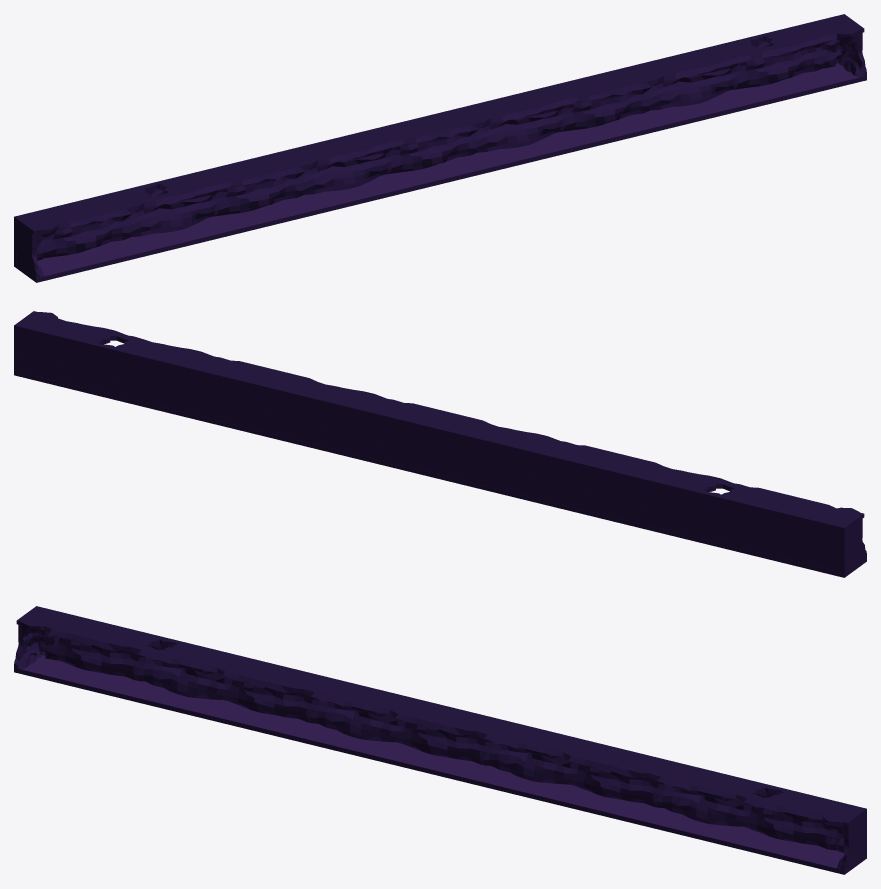
File: cave_grp.fbx
3 renders of one model, top to bottom at view 1: azimuth 30°, elevation 25°; view 2: azimuth 150°, elevation 25°; view 3: azimuth 330°, elevation 25°, orthographic.
Visible parts, largest first — view 1: cave_ground_long_001_msh, cave_wall_top_001_msh, cave_wall_bottom_001_msh, cave_wall_bottom_002_msh, cave_ground_long_002_msh, cave_wall_top_002_msh, cave_wall_top_003_msh, cave_wall_middle_001_msh, cave_wall_middle_002_msh, cave_cliff_top_001_msh, cave_cliff_bottom_001_msh, cave_ground_medium_001_msh (+1 smaller); view 2: cave_wall_top_001_msh, cave_wall_top_002_msh, cave_wall_bottom_001_msh, cave_wall_bottom_002_msh, cave_wall_top_003_msh, cave_wall_middle_001_msh, cave_wall_middle_002_msh, cave_ground_long_001_msh, cave_ground_long_002_msh, cave_cliff_top_001_msh, cave_corner_top_001_msh, cave_corner_bottom_001_msh (+1 smaller); view 3: cave_ground_long_001_msh, cave_wall_top_001_msh, cave_wall_bottom_001_msh, cave_wall_bottom_002_msh, cave_ground_long_002_msh, cave_wall_top_002_msh, cave_wall_top_003_msh, cave_wall_middle_001_msh, cave_wall_middle_002_msh, cave_cliff_top_001_msh, cave_cliff_bottom_001_msh, cave_ground_medium_001_msh (+1 smaller).
Boxes of the visible parts, bbox=[...] form: cave_ground_long_001_msh: bbox=[44, 68, 841, 276]; cave_wall_top_001_msh: bbox=[40, 62, 663, 229]; cave_wall_bottom_001_msh: bbox=[44, 50, 824, 258]; cave_wall_bottom_002_msh: bbox=[130, 71, 737, 237]; cave_ground_long_002_msh: bbox=[131, 89, 754, 255]; cave_wall_top_002_msh: bbox=[300, 41, 750, 164]; cave_wall_top_003_msh: bbox=[127, 20, 836, 206]; cave_wall_middle_001_msh: bbox=[43, 46, 822, 240]; cave_wall_middle_002_msh: bbox=[129, 67, 735, 218]; cave_cliff_top_001_msh: bbox=[16, 16, 864, 247]; cave_cliff_bottom_001_msh: bbox=[16, 45, 866, 278]; cave_ground_medium_001_msh: bbox=[14, 63, 866, 282]; cave_wall_top_001_msh: bbox=[212, 360, 836, 539]; cave_wall_top_002_msh: bbox=[126, 339, 576, 476]; cave_wall_bottom_001_msh: bbox=[39, 359, 818, 566]; cave_wall_bottom_002_msh: bbox=[126, 380, 731, 545]; cave_wall_top_003_msh: bbox=[39, 318, 749, 518]; cave_wall_middle_001_msh: bbox=[39, 350, 818, 548]; cave_wall_middle_002_msh: bbox=[126, 371, 731, 527]; cave_ground_long_001_msh: bbox=[39, 377, 818, 571]; cave_ground_long_002_msh: bbox=[126, 398, 731, 550]; cave_cliff_top_001_msh: bbox=[17, 311, 864, 543]; cave_corner_top_001_msh: bbox=[14, 323, 846, 546]; cave_corner_bottom_001_msh: bbox=[14, 352, 846, 573]; cave_ground_long_001_msh: bbox=[40, 660, 836, 868]; cave_wall_top_001_msh: bbox=[44, 612, 667, 779]; cave_wall_bottom_001_msh: bbox=[56, 642, 836, 850]; cave_wall_bottom_002_msh: bbox=[143, 663, 750, 828]; cave_ground_long_002_msh: bbox=[126, 681, 750, 847]; cave_wall_top_002_msh: bbox=[303, 675, 754, 801]; cave_wall_top_003_msh: bbox=[130, 633, 840, 822]; cave_wall_middle_001_msh: bbox=[58, 637, 837, 831]; cave_wall_middle_002_msh: bbox=[145, 658, 752, 811]; cave_cliff_top_001_msh: bbox=[16, 608, 864, 839]; cave_cliff_bottom_001_msh: bbox=[14, 637, 864, 870]; cave_ground_medium_001_msh: bbox=[14, 655, 866, 874].
Bounding box in the file's own units: 19195 × 1100 × 900.
